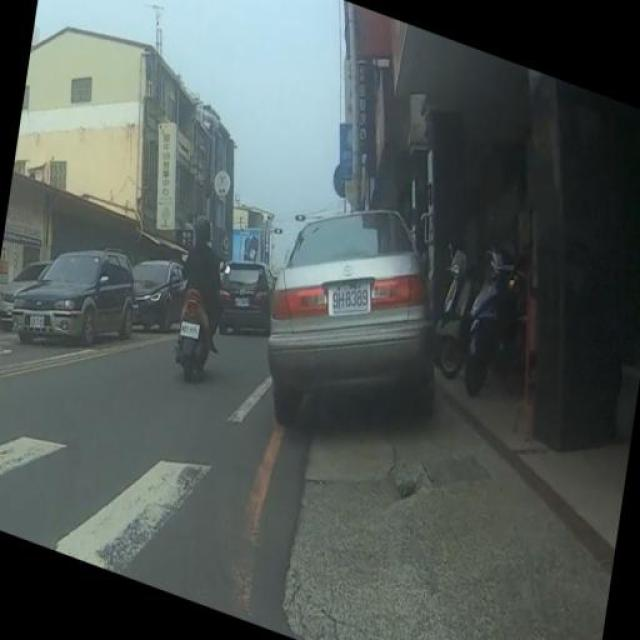illegalparking: (248, 196, 454, 472)
